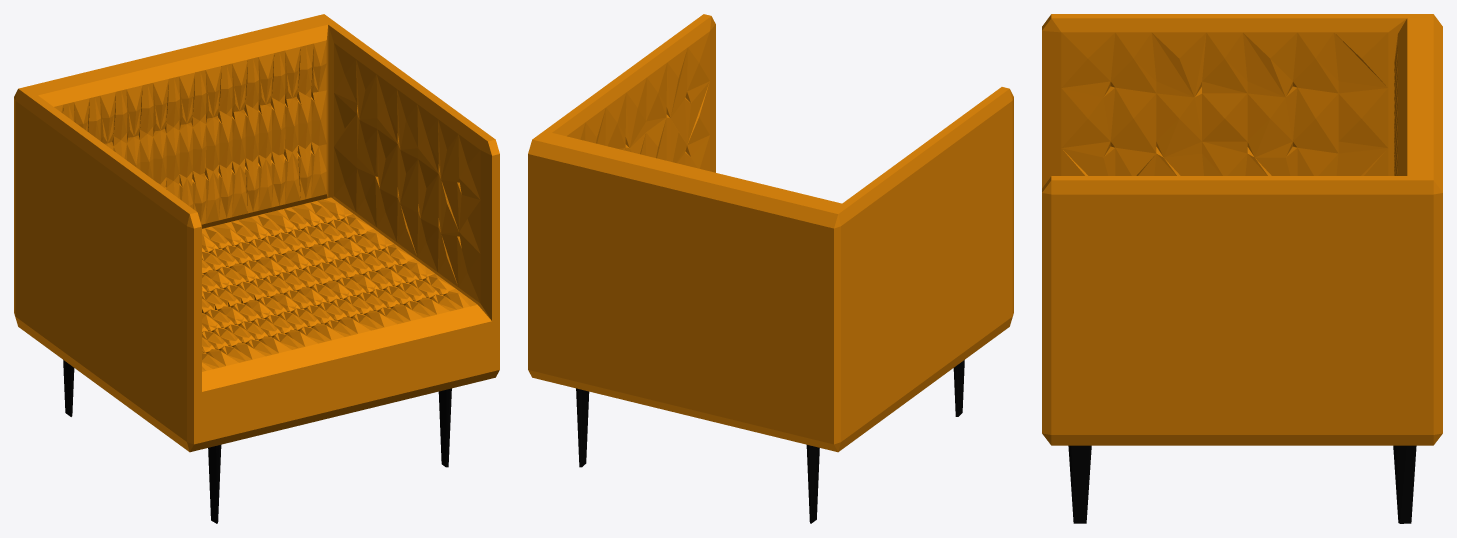
File: sh-kl-mid-century-bench-sofa.glb
3 renders of one model, left to right at view 1: azimuth 30°, elevation 25°; view 2: azimuth 150°, elevation 25°; view 3: azimuth 270°, elevation 25°, orthographic. The views are drawn at different scales.
Parts seen in each view (by area): view 1: sofa, sofa_legs; view 2: sofa, sofa_legs; view 3: sofa, sofa_legs.
Boxes of the visible parts, <box> form: sofa: <box>14,14,499,452</box>; sofa_legs: <box>63,360,451,523</box>; sofa: <box>528,14,1013,452</box>; sofa_legs: <box>576,360,964,523</box>; sofa: <box>1042,14,1442,445</box>; sofa_legs: <box>1068,445,1416,523</box>.
Size of the model in its own units: 1 by 1 by 1.
